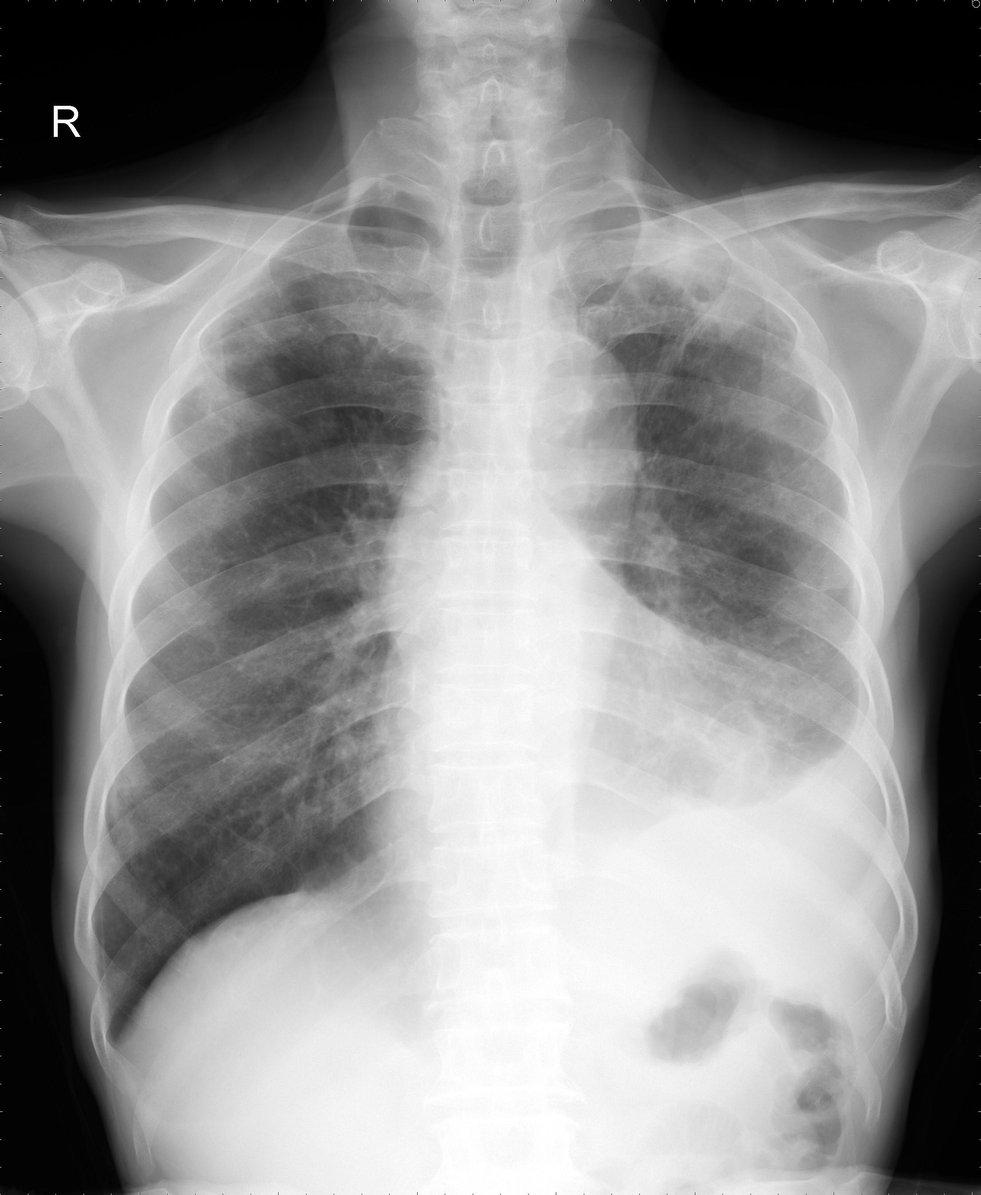Aortic enlargement: (510, 336, 639, 473)
Pleural thickening: (584, 220, 806, 367), (90, 1019, 131, 1064)
Pulmonary fibrosis: (584, 220, 806, 367), (186, 277, 272, 429)
